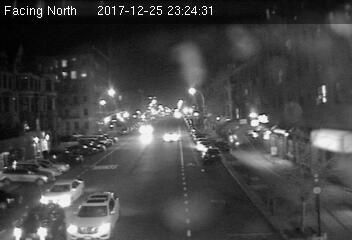car: (65, 189, 125, 238), (12, 199, 68, 240), (39, 178, 86, 209), (162, 132, 180, 142)
